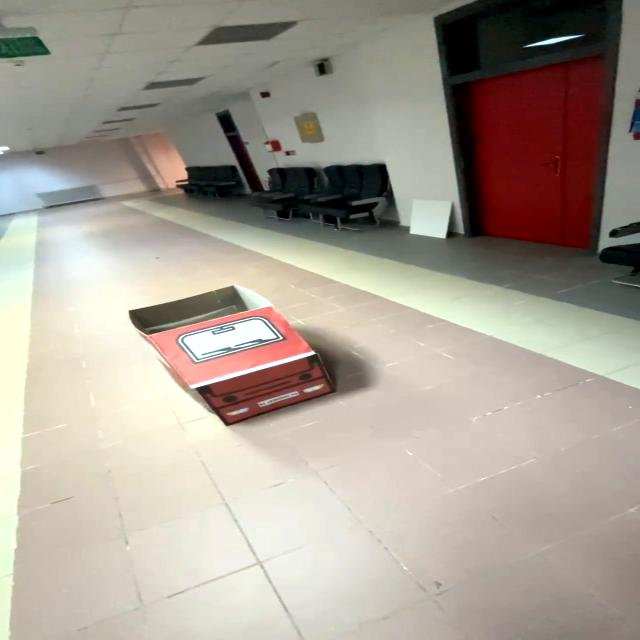red_car: (103, 274, 385, 439)
